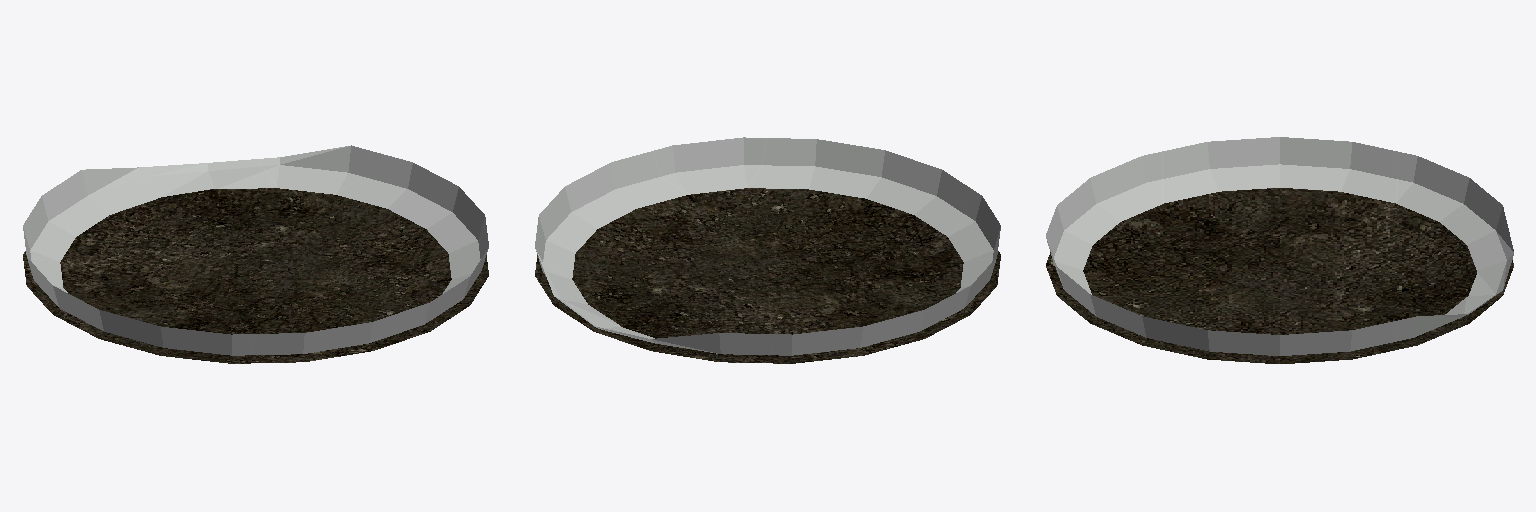
3 renders of one model, left to right at view 1: azimuth 30°, elevation 25°; view 2: azimuth 150°, elevation 25°; view 3: azimuth 270°, elevation 25°, orthographic.
Parts seen in each view (by area): view 1: mesh0, mesh1; view 2: mesh0, mesh1; view 3: mesh0, mesh1.
Part boxes in pixels (left/top/right/bottom): mesh0: left=23, top=188, right=488, bottom=363; mesh1: left=23, top=145, right=488, bottom=355; mesh0: left=535, top=188, right=1000, bottom=363; mesh1: left=535, top=137, right=1000, bottom=355; mesh0: left=1046, top=188, right=1513, bottom=363; mesh1: left=1046, top=137, right=1513, bottom=355.
Size of the model in its own units: 2 by 0.1883 by 2.
2 materials, 2 textured.